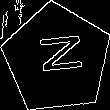N_W: (30, 36, 84, 81)
